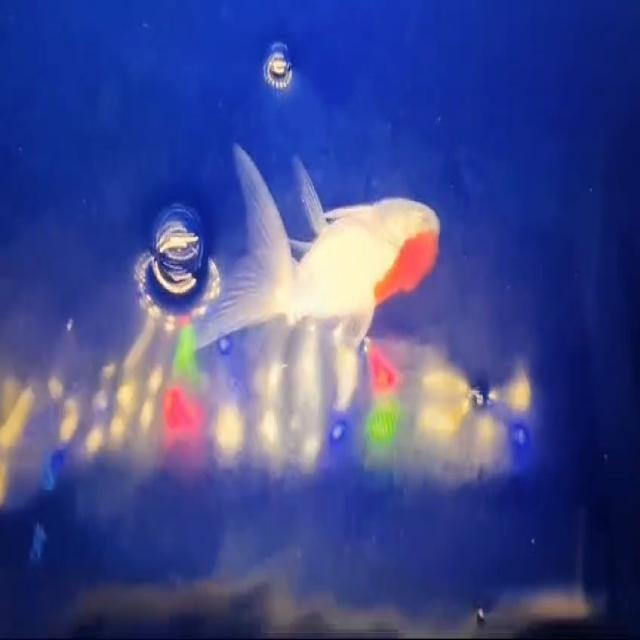fish: (195, 122, 443, 366)
